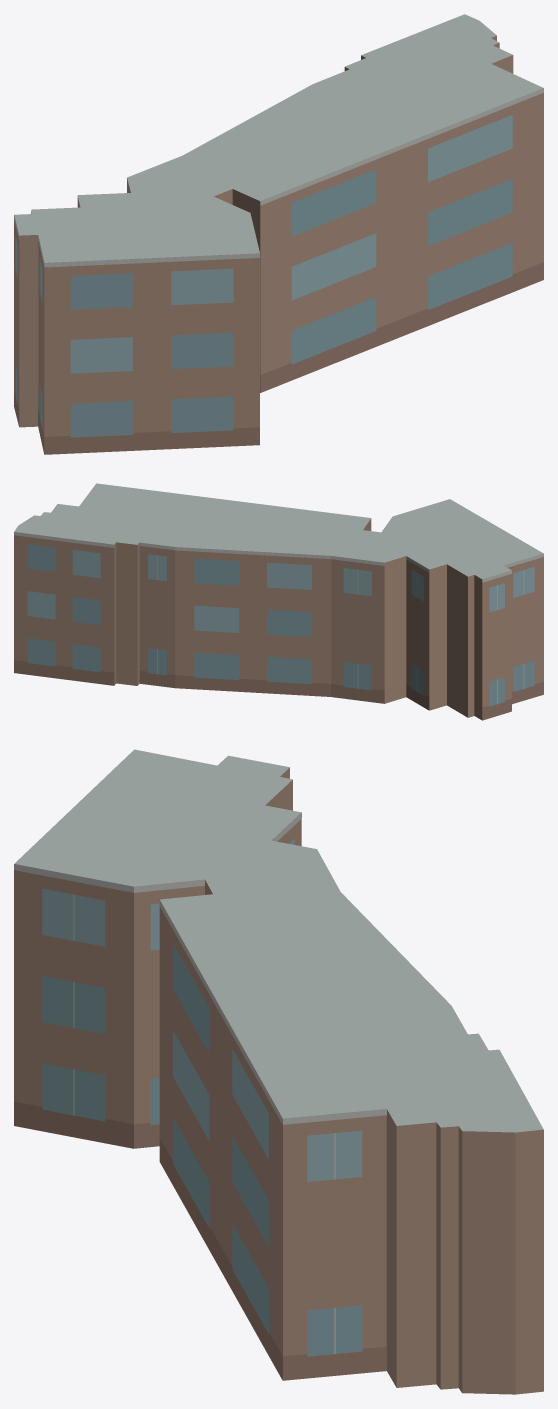
File: survey-upis-32491797.glb
3 renders of one model, top to bottom at view 1: azimuth 30°, elevation 25°; view 2: azimuth 150°, elevation 25°; view 3: azimuth 270°, elevation 25°, orthographic. The views are drawn at different scales.
Parts seen in each view (by area): view 1: survey-upis-32491797.tmp; view 2: survey-upis-32491797.tmp; view 3: survey-upis-32491797.tmp.
Part boxes in pixels (left/top/right/bottom): survey-upis-32491797.tmp: left=14, top=14, right=543, bottom=454; survey-upis-32491797.tmp: left=14, top=483, right=543, bottom=720; survey-upis-32491797.tmp: left=14, top=749, right=543, bottom=1394.
Bounding box in the file's own units: 32.08 × 10.23 × 18.75.
